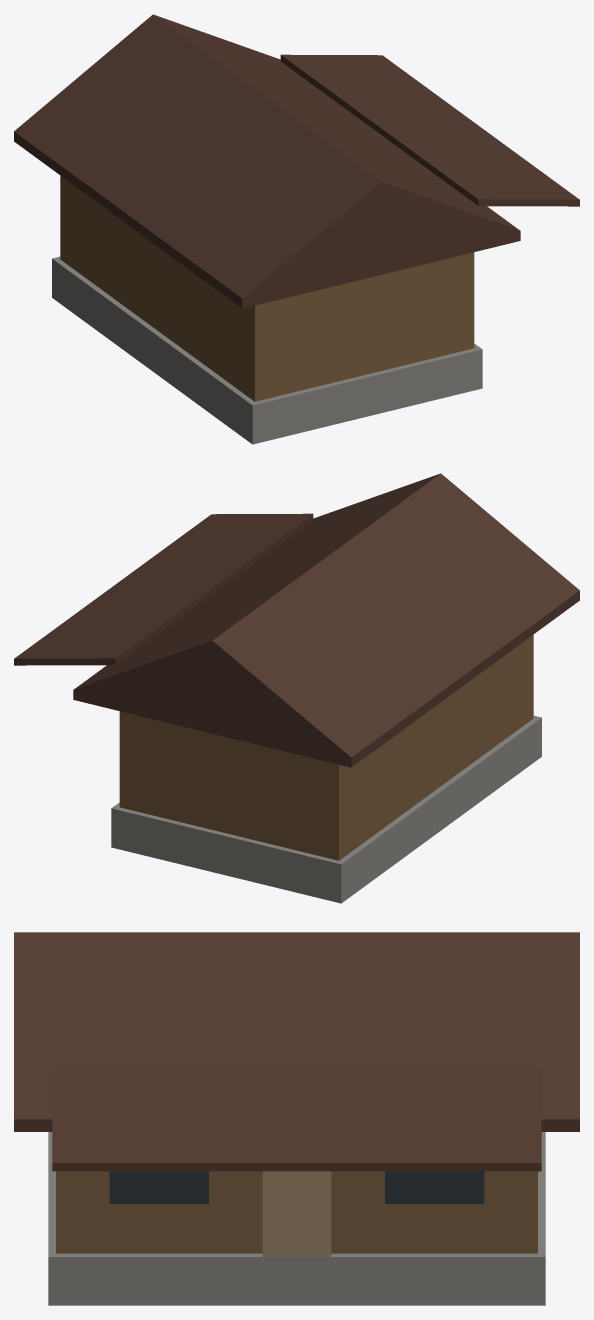
Rendered from SM_Prop_cafe_building_3_LOD2.glb.
3 views of the same model, one above another, from view 1: azimuth 30°, elevation 25°; view 2: azimuth 150°, elevation 25°; view 3: azimuth 270°, elevation 25° (orthographic). The views are drawn at different scales.
Parts seen in each view (by area): view 1: SM_Prop_cafe_building_3_LOD2; view 2: SM_Prop_cafe_building_3_LOD2; view 3: SM_Prop_cafe_building_3_LOD2.
Part boxes in pixels (<box>): SM_Prop_cafe_building_3_LOD2: <box>14,14,579,444</box>; SM_Prop_cafe_building_3_LOD2: <box>14,473,579,903</box>; SM_Prop_cafe_building_3_LOD2: <box>14,932,579,1305</box>.
Size of the model in its own units: 6.6 by 4.38 by 7.4.
